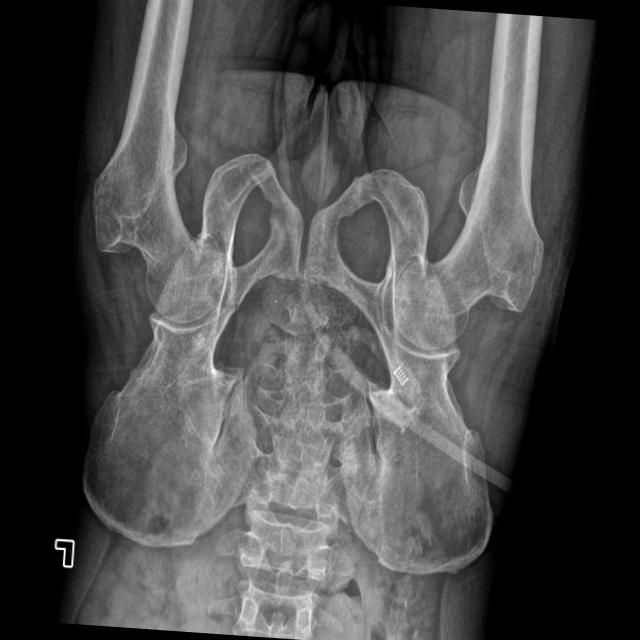normal-left: (91, 0, 222, 322)
normal-right: (392, 12, 542, 349)
